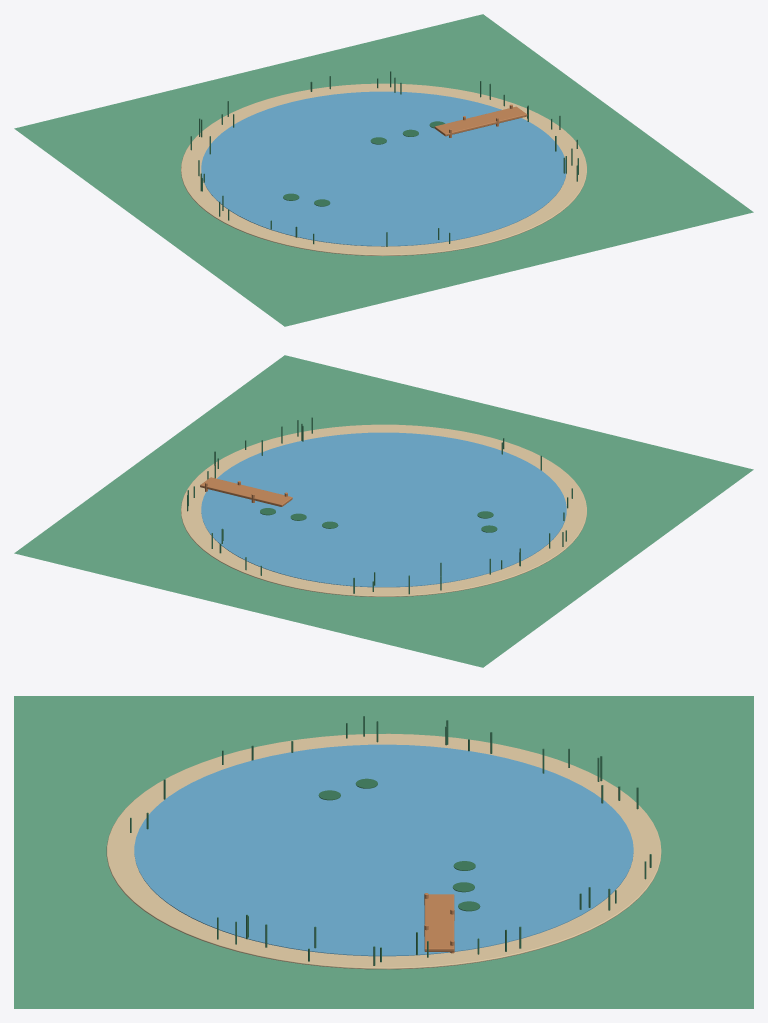
The model's file is land_lake.glb.
3 views of the same model, one above another, from view 1: azimuth 30°, elevation 25°; view 2: azimuth 150°, elevation 25°; view 3: azimuth 270°, elevation 25° (orthographic). The views are drawn at different scales.
Parts seen in each view (by area): view 1: land_lake; view 2: land_lake; view 3: land_lake.
Part boxes in pixels (x1=…): land_lake: x1=14, y1=14, x2=753, y2=326; land_lake: x1=14, y1=355, x2=753, y2=667; land_lake: x1=14, y1=696, x2=753, y2=1008.
Size of the model in its own units: 40 by 1.59 by 40.
Materials: 1 (1 with a texture image).
